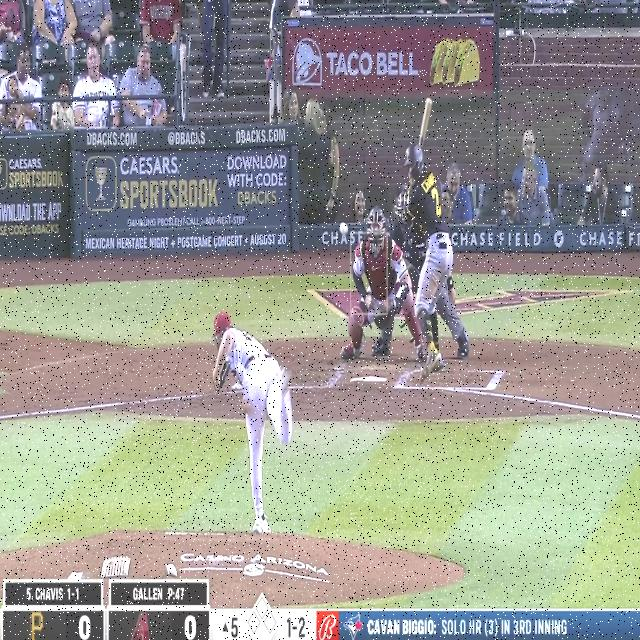baseball: (339, 222, 348, 235)
